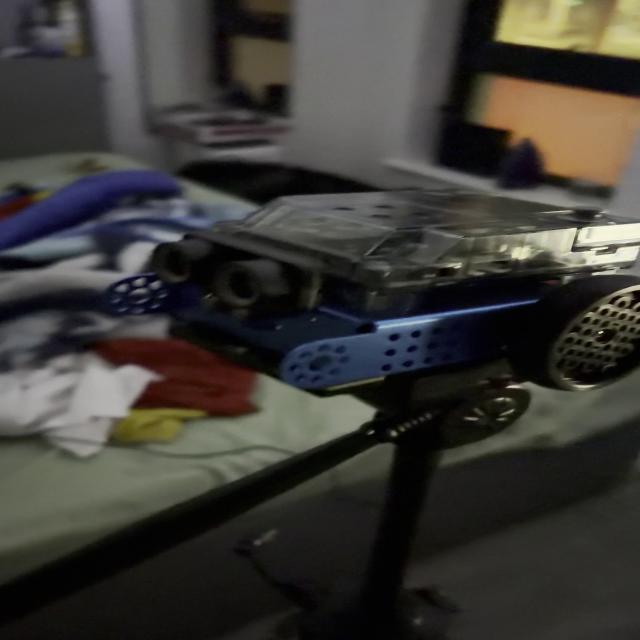mbot-detection: (84, 182, 640, 402)
